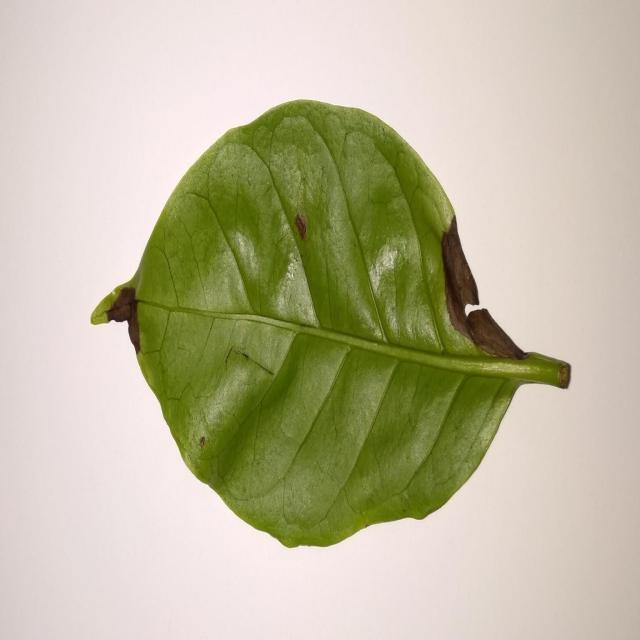Enfermedad-Antracnosis: (88, 100, 572, 551)
